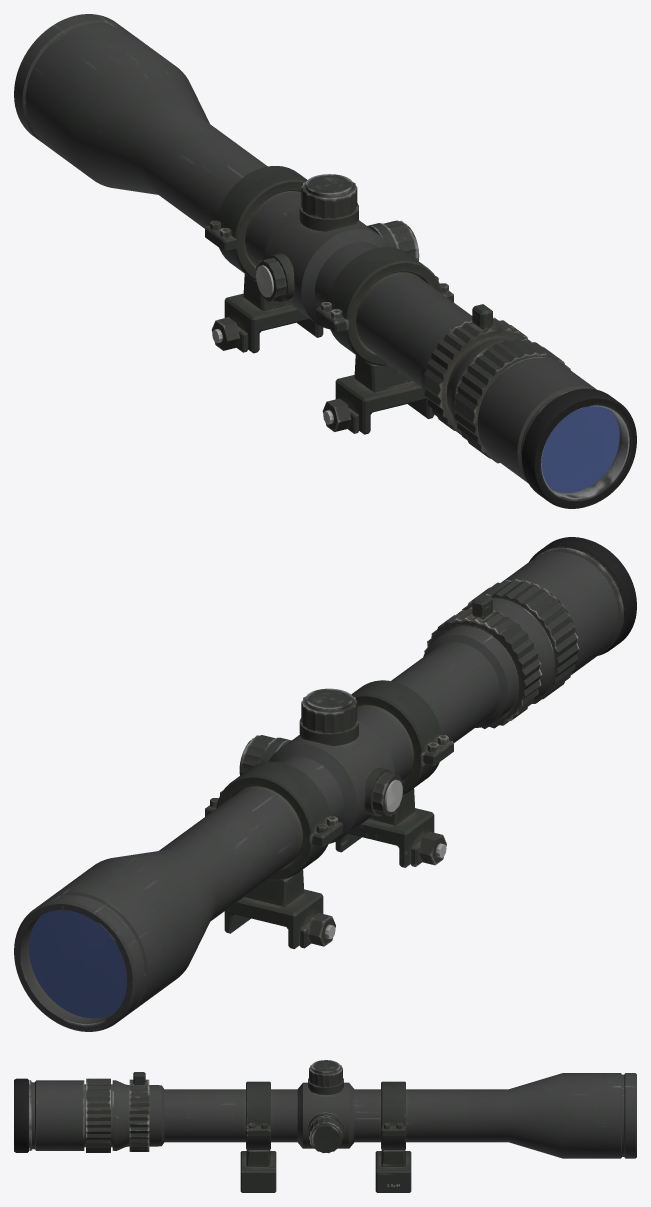
File: luneta_3_9.glb
3 views of the same model, one above another, from view 1: azimuth 30°, elevation 25°; view 2: azimuth 150°, elevation 25°; view 3: azimuth 270°, elevation 25° (orthographic). The views are drawn at different scales.
Parts seen in each view (by area): view 1: luneta_3_9_luneta, luneta_3_9_lente; view 2: luneta_3_9_luneta, luneta_3_9_lente; view 3: luneta_3_9_luneta.
Part boxes in pixels (<box>): luneta_3_9_luneta: <box>14,14,636,508</box>; luneta_3_9_lente: <box>541,406,619,492</box>; luneta_3_9_luneta: <box>14,537,636,1031</box>; luneta_3_9_lente: <box>29,910,127,1018</box>; luneta_3_9_luneta: <box>14,1060,636,1192</box>.
Bounding box in the file's own units: 0.0566 × 0.0727 × 0.3506.
1 material, 1 textured.
